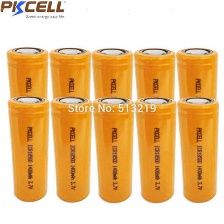battery: (174, 45, 221, 156), (89, 93, 136, 203), (4, 42, 50, 153), (47, 93, 93, 203), (132, 93, 177, 204), (131, 44, 175, 156), (177, 92, 220, 206), (88, 45, 134, 151), (47, 43, 92, 150), (5, 92, 48, 203)
